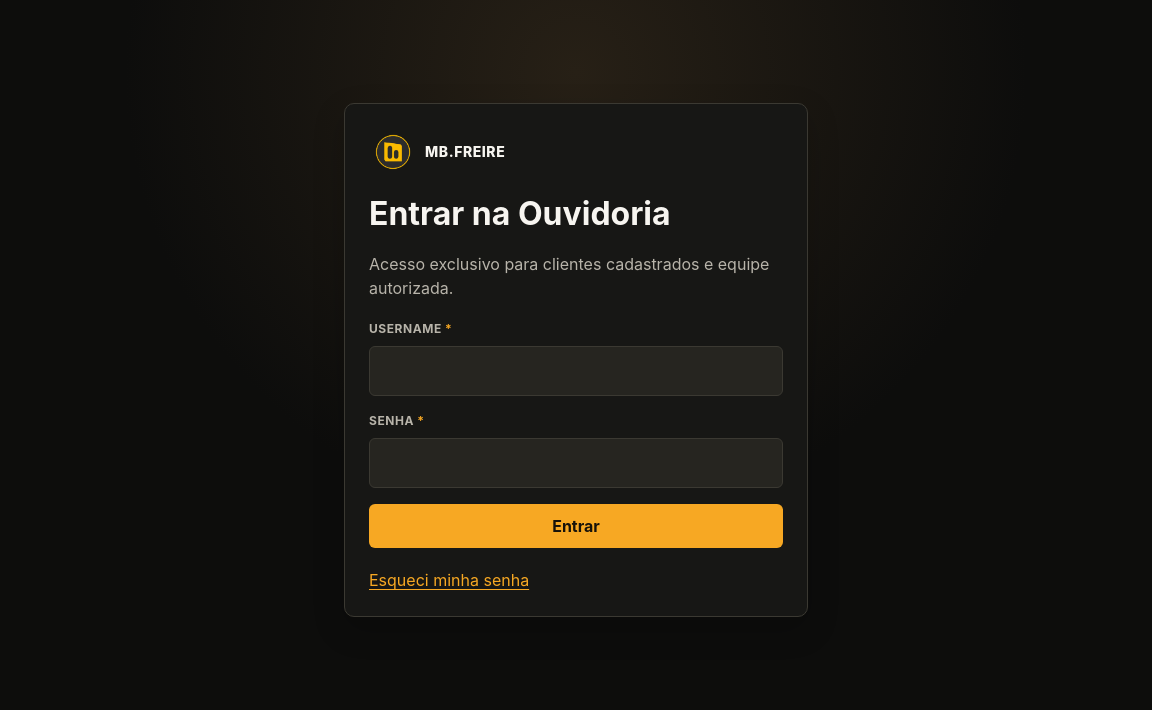
não oferece página adicional quando a API retorna exatamente 50 categorias e totalPages=1
The image size is (1152, 710).
Step 1. Type "cliente" into the field labelled "Username" → point(576, 371), box [369,346,783,396]
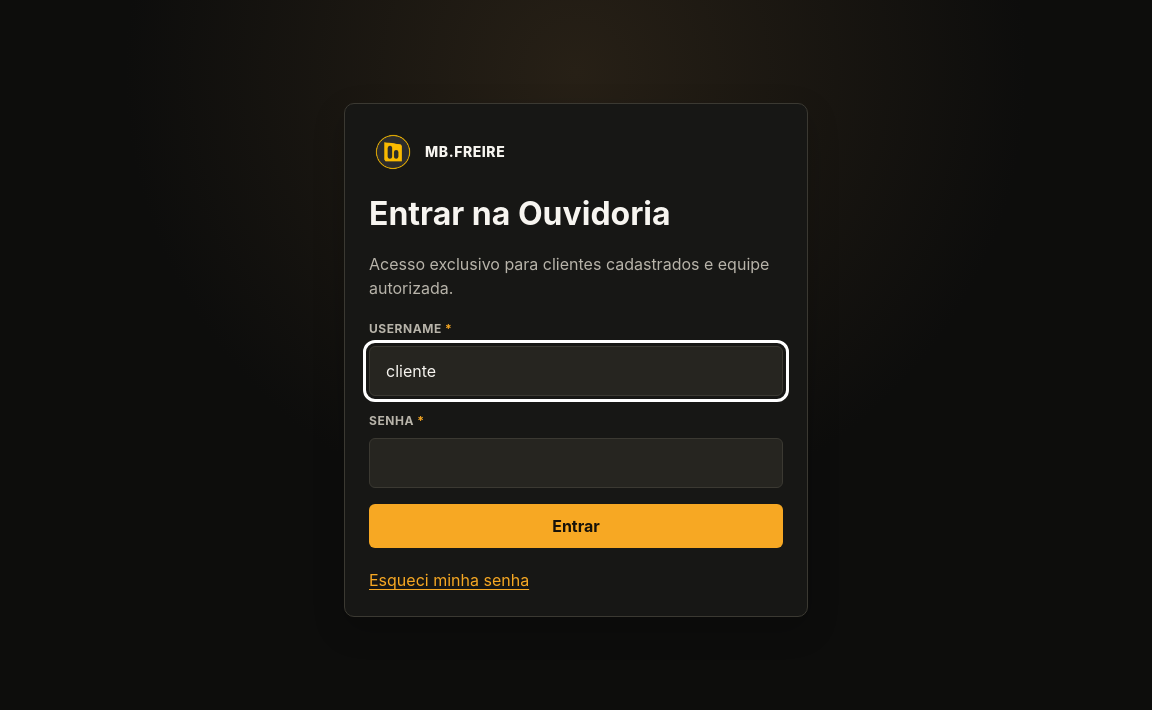
Step 2. Type "senha-correta" into the password field labelled "Senha *" → point(576, 463), box [369,438,783,488]
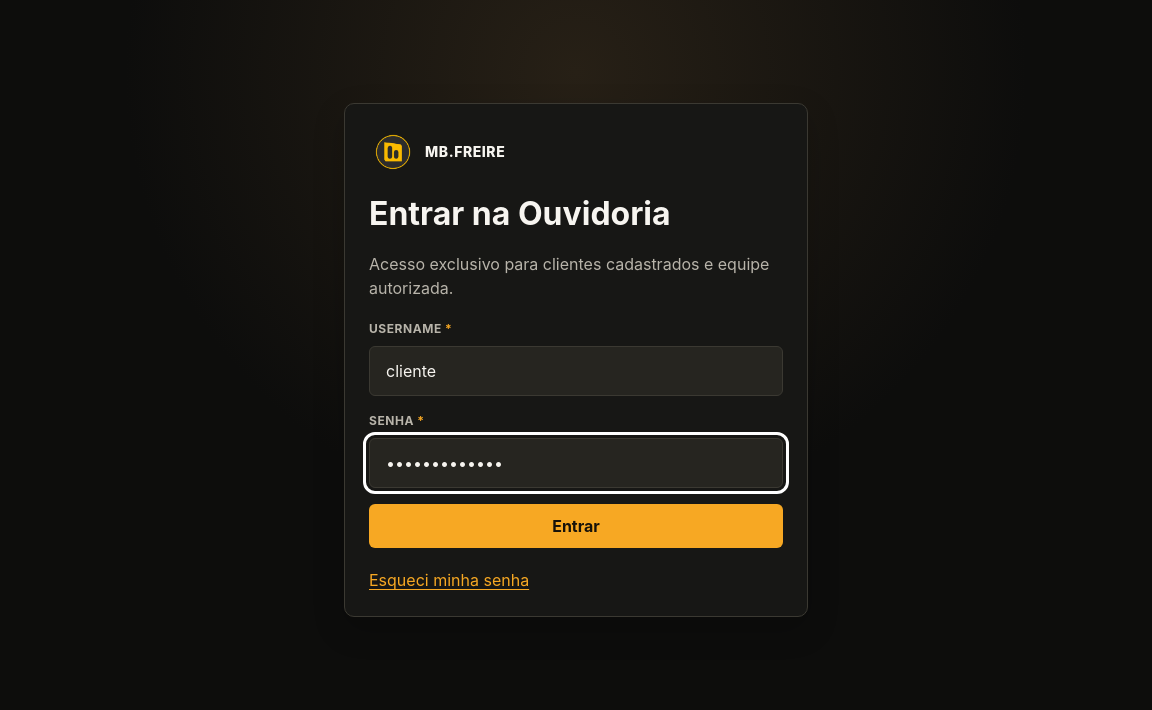
Step 3. Click the button "Entrar" → point(576, 526), box [369,504,783,548]
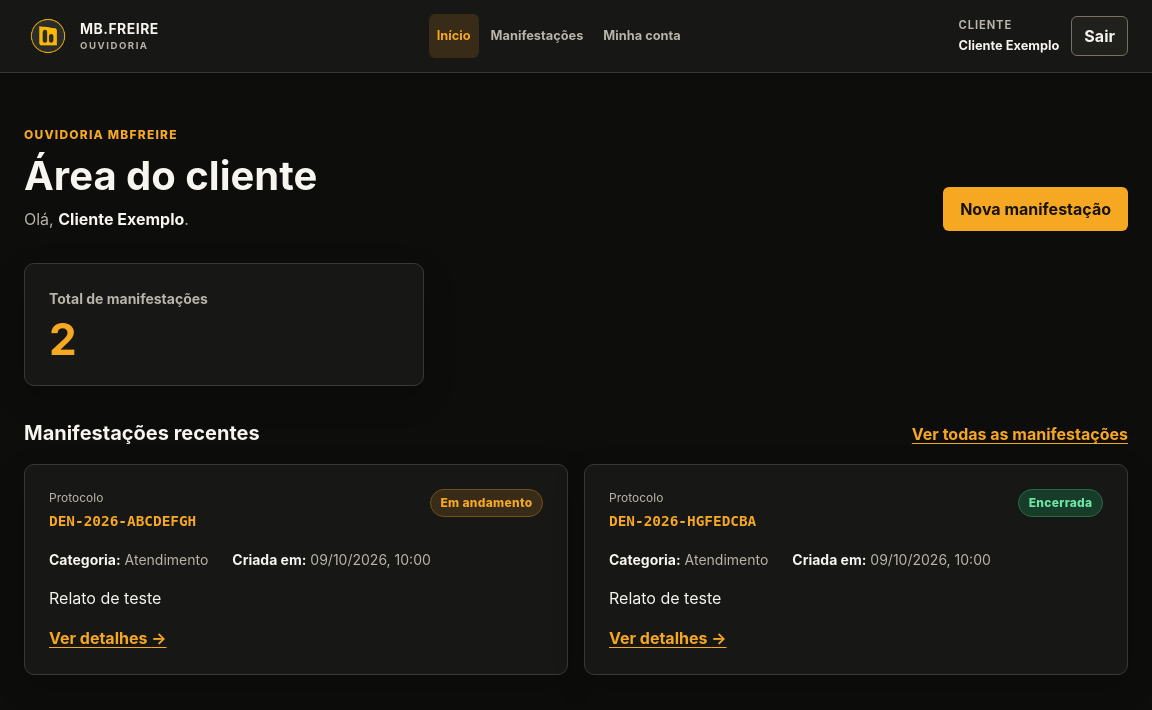
Step 4. Click the link "Nova manifestação" → point(1036, 209), box [943,187,1128,231]
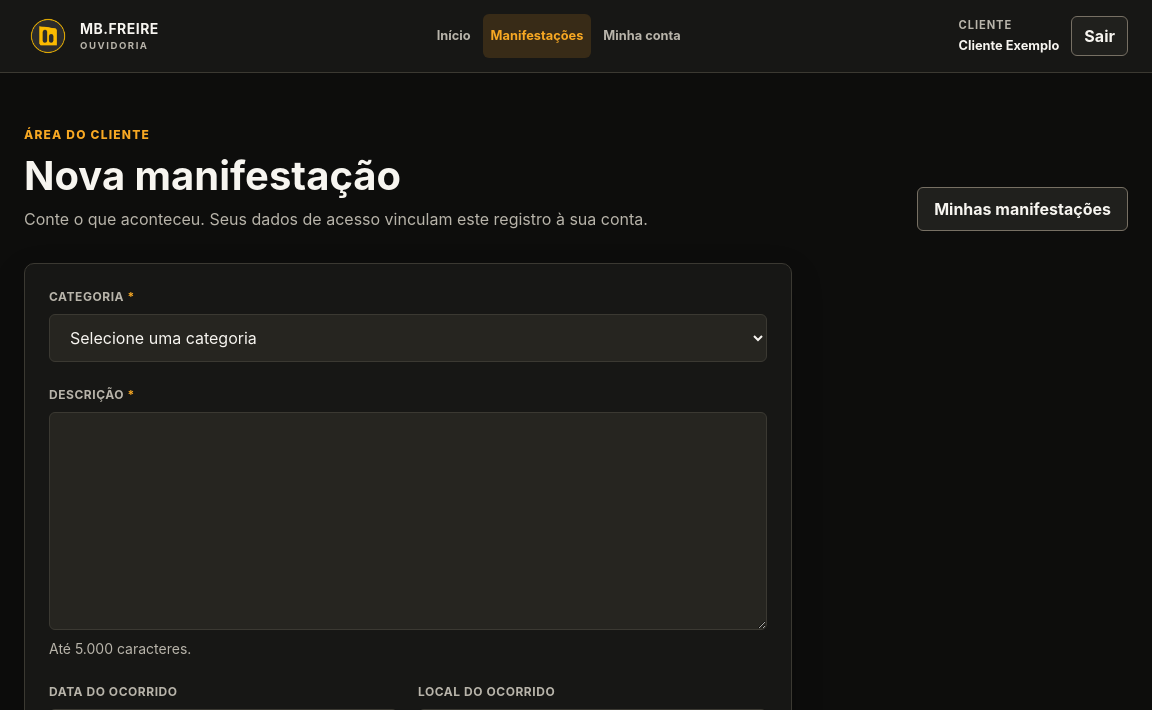
Now the dropdown labelled "Categoria" is shown, box [49,314,767,362]
